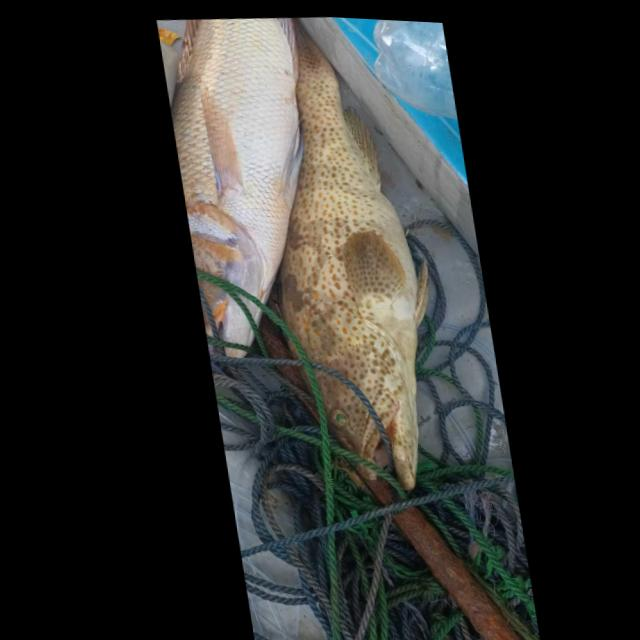Groupers: (208, 11, 467, 500)
